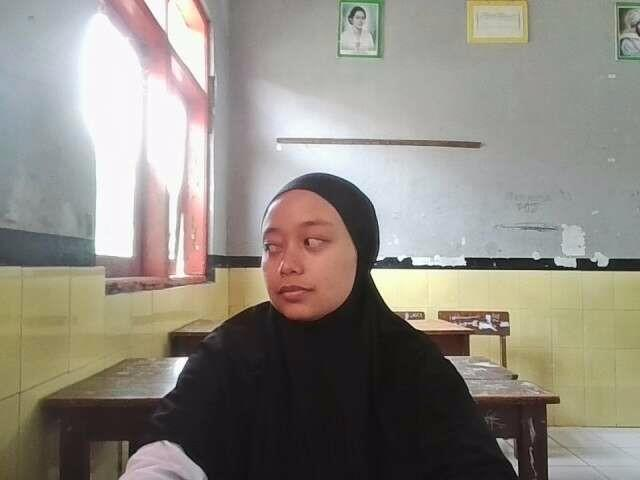cheating: (244, 142, 395, 345)
